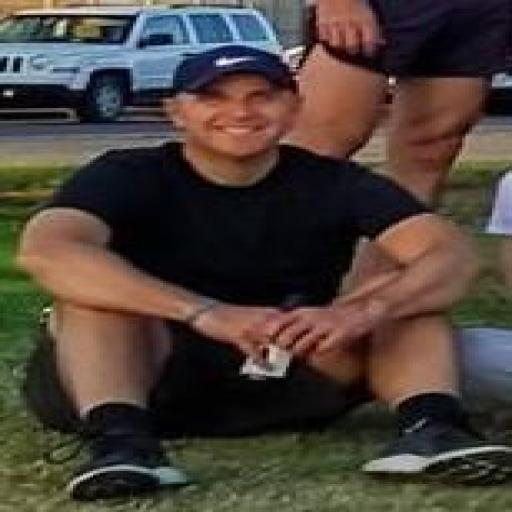person: (17, 46, 511, 499), (290, 0, 511, 203), (459, 327, 511, 414)
